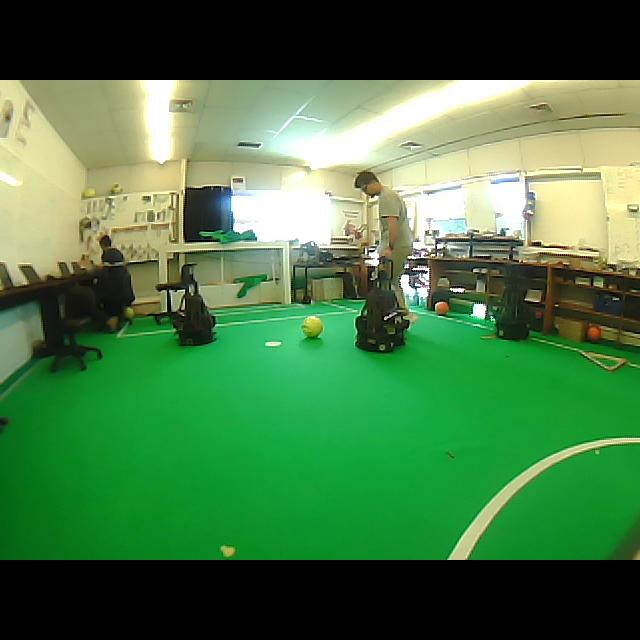ball: (301, 316, 323, 337), (586, 325, 601, 342), (435, 301, 448, 315), (124, 306, 134, 324), (110, 182, 122, 195), (82, 188, 96, 198)
goal: (283, 242, 291, 304)
robot: (355, 259, 409, 352), (172, 264, 215, 345), (496, 265, 529, 340)
